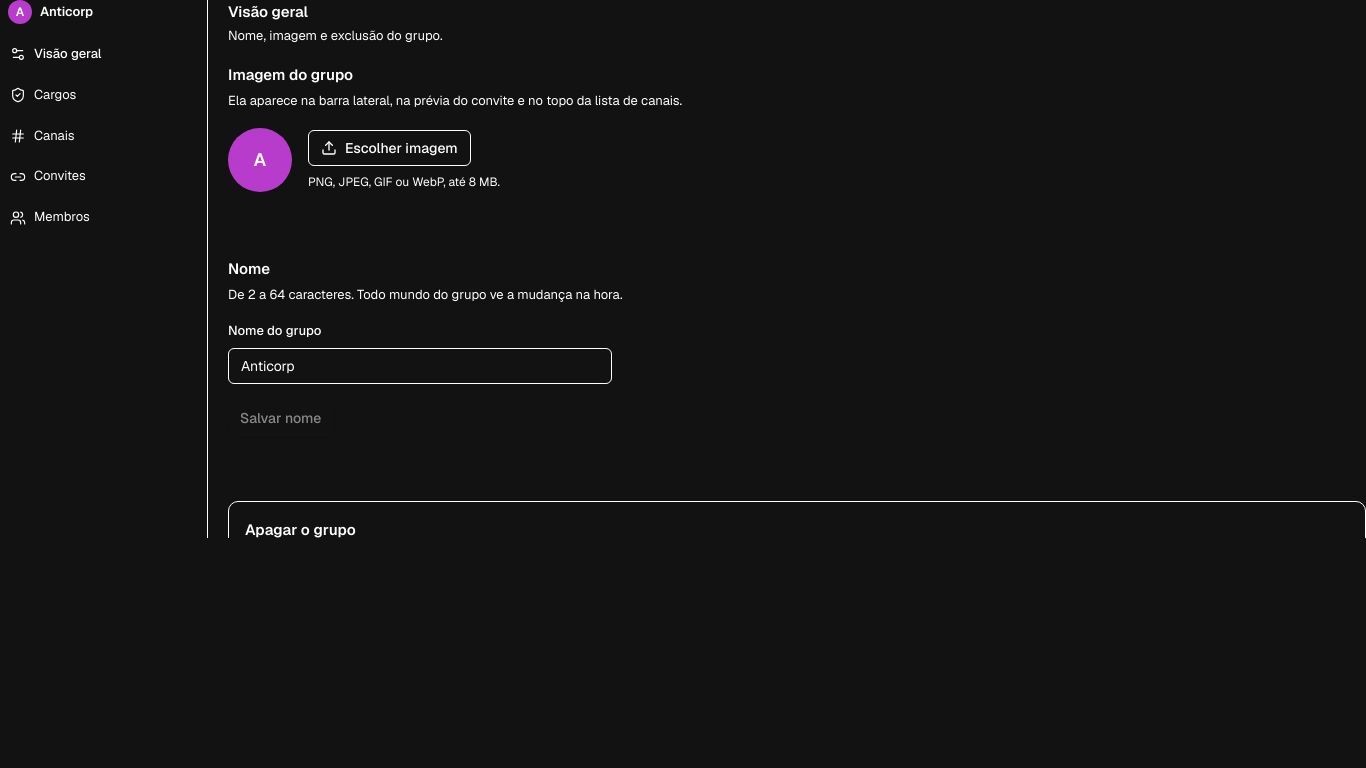
Test case: configuracoes › revogar convite pede confirmação explicita
Click the button "Convites": [98, 177] box [0,158,195,195]
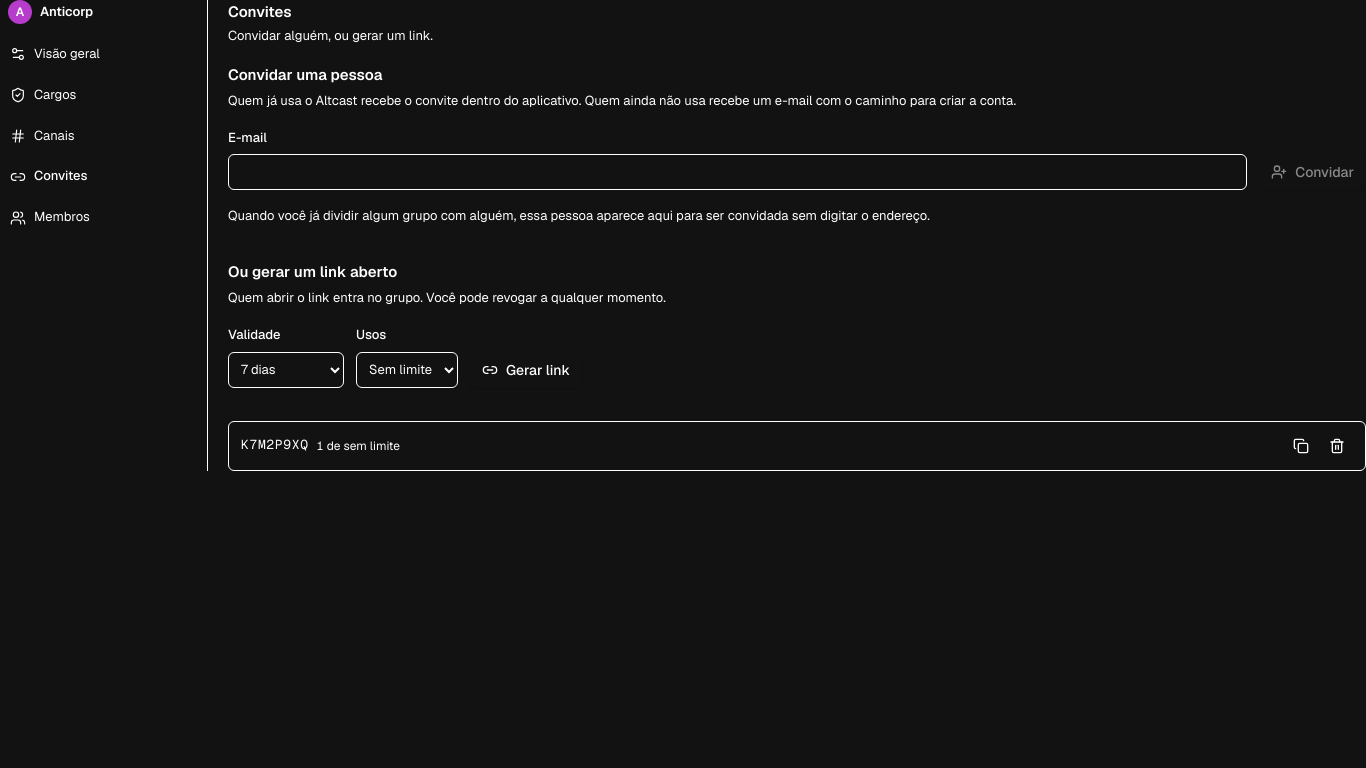
Click the 2nd button named "Revogar o convite K7M2P9XQ": [1337, 446] box [1321,430,1353,462]
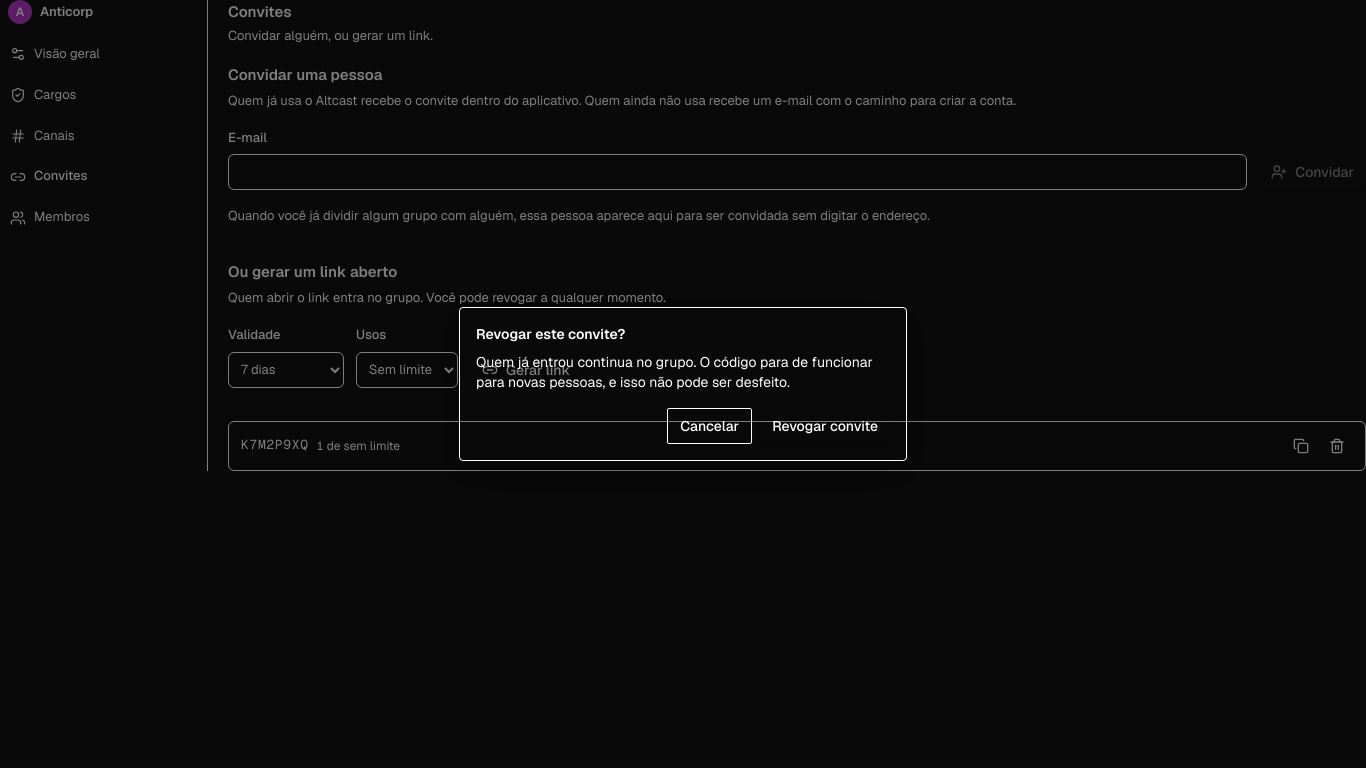
Expected: the dialog shows "Revogar", [476,325,625,343]
Expected: the button "Revogar convite" is shown, [760,408,890,444]
